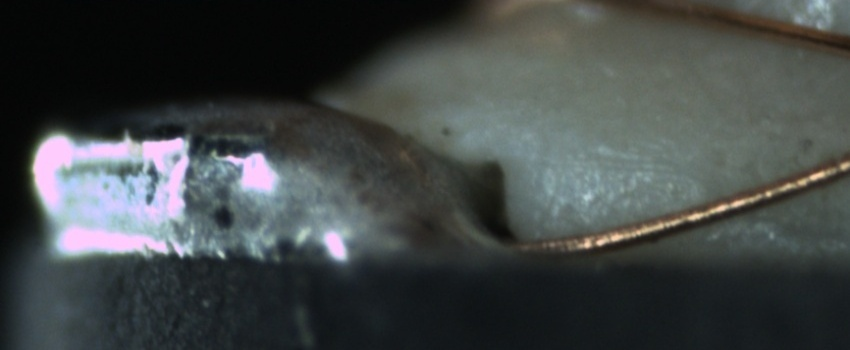DL: (534, 132, 688, 187)
